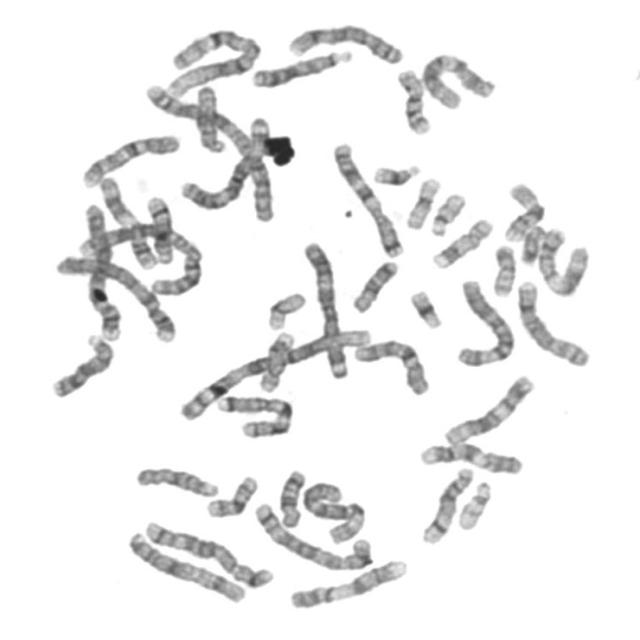A1: (175, 321, 375, 423), (162, 22, 266, 100)
A2: (140, 77, 280, 221), (72, 216, 206, 298)
A3: (177, 114, 270, 213), (298, 235, 351, 381)
B4: (51, 248, 181, 345), (76, 198, 126, 344)
B5: (138, 515, 278, 590), (249, 496, 376, 573)
C10: (76, 128, 183, 190), (350, 333, 434, 398)
C11: (95, 170, 159, 272), (534, 222, 593, 299)
C12: (439, 369, 538, 448), (418, 46, 500, 110)
C6: (451, 273, 519, 368), (298, 476, 371, 547)
C7: (328, 136, 407, 260), (211, 389, 298, 440)
C8: (512, 274, 594, 368), (283, 18, 406, 66)
C9: (284, 554, 411, 612), (414, 437, 527, 476)
D13: (46, 328, 117, 400), (248, 43, 356, 89)
D14: (417, 461, 477, 546), (140, 190, 177, 265)
D15: (131, 461, 222, 499), (192, 80, 227, 155)
E16: (499, 177, 548, 243), (393, 64, 435, 136)
E17: (428, 212, 498, 270), (256, 325, 298, 394)
E18: (347, 255, 402, 314), (274, 464, 309, 530)
F19: (402, 171, 445, 231), (263, 286, 309, 332)
F20: (204, 474, 259, 520), (487, 238, 520, 298)
G21: (405, 284, 446, 330), (368, 157, 423, 187)
G22: (453, 476, 496, 531), (426, 187, 470, 238)
X: (122, 527, 250, 605)
Y: (520, 224, 548, 268)
